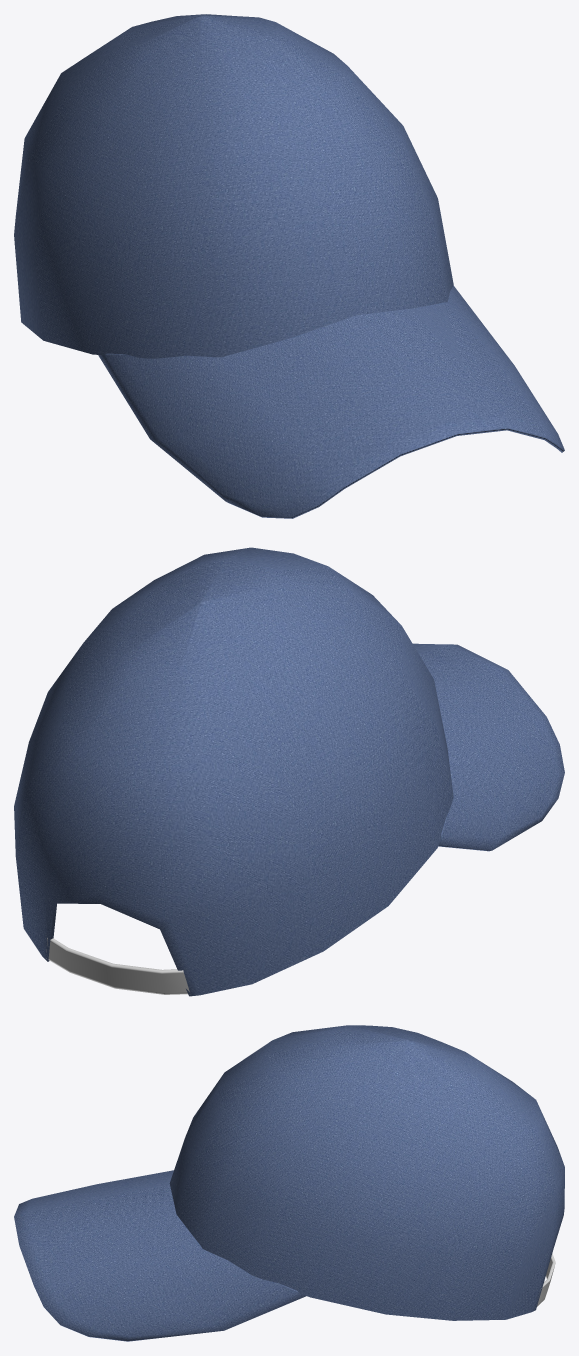
File: maozi.FBX
3 views of the same model, one above another, from view 1: azimuth 30°, elevation 25°; view 2: azimuth 150°, elevation 25°; view 3: azimuth 270°, elevation 25° (orthographic). The views are drawn at different scales.
Visible parts, largest first — view 1: maozi; view 2: maozi; view 3: maozi.
Boxes of the visible parts, x1,y1,x2,y2 form: maozi: [14, 14, 564, 518]; maozi: [14, 547, 564, 996]; maozi: [14, 1025, 564, 1341].
Bounding box in the file's own units: 22.39 × 19.82 × 40.2.
Materials: 2 (1 with a texture image).
